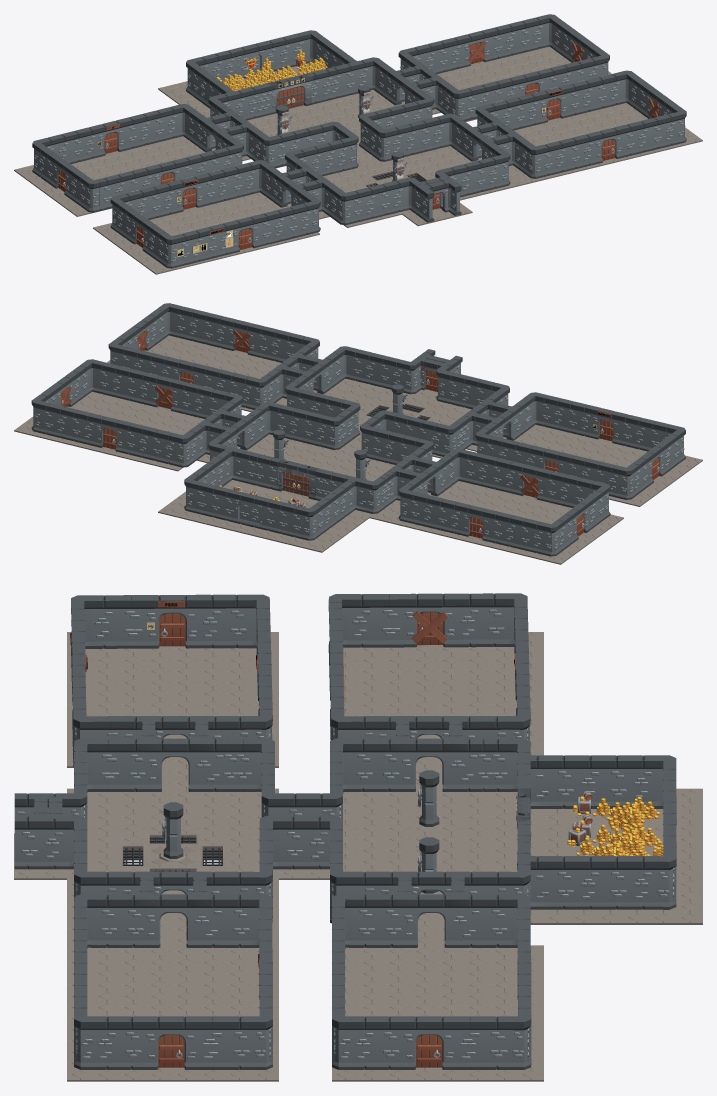
File: main_dungeon_v7_compressed.glb
3 renders of one model, top to bottom at view 1: azimuth 30°, elevation 25°; view 2: azimuth 150°, elevation 25°; view 3: azimuth 270°, elevation 25°, orthographic. The views are drawn at different scales.
Visible parts, largest first — view 1: wall_doorway_sides.002, wall.019, wall.008, wall.064, wall.083, wall.086, wall.088, wall.130, wall.007, wall.065, wall.011, wall.018 (+71 smaller); view 2: wall.019, wall.132, wall.138, wall.016, wall.064, wall.139, wall.140, wall.062, wall.065, wall.136, wall.137, wall (+73 smaller); view 3: floor_tile_extralarge_grates_open, wall_doorway_sides.002, wall.005, wall.085, wall.031, wall.003, wall.084, wall_doorway_Tsplit.003, wall_doorway_Tsplit.016, wall_doorway_Tsplit.011, wall_doorway_Tsplit.005, wall_doorway.002 (+129 smaller).
Part boxes in pixels (left/top/right/bottom): wall_doorway_sides.002: left=411, top=174, right=461, bottom=222; wall.019: left=515, top=15, right=546, bottom=53; wall.008: left=415, top=115, right=446, bottom=153; wall.064: left=620, top=119, right=651, bottom=157; wall.083: left=592, top=72, right=623, bottom=110; wall.086: left=283, top=202, right=313, bottom=239; wall.088: left=200, top=168, right=231, bottom=206; wall.130: left=146, top=181, right=177, bottom=219; wall.007: left=471, top=156, right=501, bottom=193; wall.065: left=647, top=112, right=678, bottom=150; wall.011: left=375, top=179, right=406, bottom=216; wall.018: left=488, top=22, right=518, bottom=60; wall.019: left=39, top=401, right=71, bottom=439; wall.132: left=618, top=413, right=649, bottom=450; wall.138: left=489, top=510, right=519, bottom=548; wall.016: left=123, top=367, right=153, bottom=405; wall.064: left=199, top=311, right=230, bottom=349; wall.139: left=516, top=517, right=547, bottom=554; wall.140: left=543, top=469, right=574, bottom=507; wall.062: left=254, top=325, right=285, bottom=362; wall.065: left=172, top=305, right=203, bottom=342; wall.136: left=434, top=497, right=464, bottom=534; wall.137: left=488, top=456, right=519, bottom=494; wall: left=300, top=410, right=330, bottom=448; floor_tile_extralarge_grates_open: left=120, top=833, right=225, bottom=871; wall_doorway_sides.002: left=14, top=793, right=67, bottom=869; wall.005: left=550, top=856, right=603, bottom=909; wall.085: left=603, top=856, right=656, bottom=909; wall.031: left=279, top=815, right=332, bottom=869; wall.003: left=550, top=755, right=603, bottom=808; wall.084: left=603, top=755, right=656, bottom=808; wall_doorway_Tsplit.003: left=120, top=885, right=161, bottom=947; wall_doorway_Tsplit.016: left=378, top=885, right=419, bottom=947; wall_doorway_Tsplit.011: left=122, top=730, right=162, bottom=791; wall_doorway_Tsplit.005: left=376, top=730, right=416, bottom=791; wall_doorway.002: left=402, top=1016, right=455, bottom=1069.
Bounding box in the file's own units: 80 × 5.13 × 52.
Materials: 34 (24 with a texture image).
